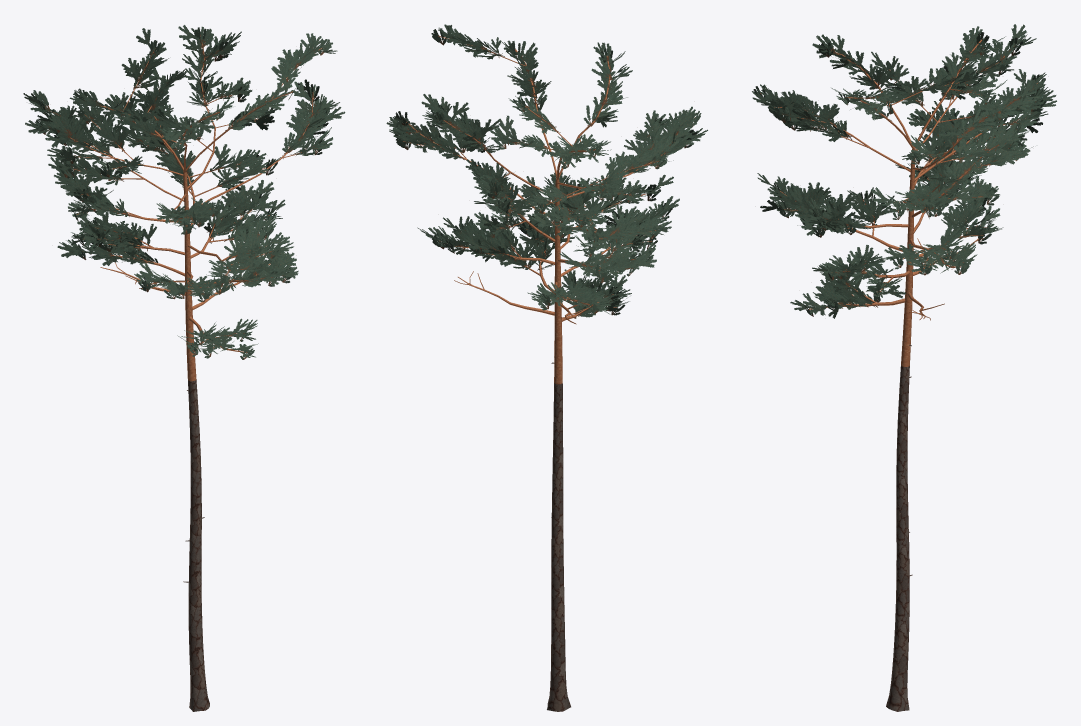
File: pine_a_LOD0.glb
3 renders of one model, left to right at view 1: azimuth 30°, elevation 25°; view 2: azimuth 150°, elevation 25°; view 3: azimuth 270°, elevation 25°, orthographic. The views are drawn at different scales.
Parts seen in each view (by area): view 1: Pine_A_LOD0_Foliage, Pine_A_LOD0_Bark; view 2: Pine_A_LOD0_Foliage, Pine_A_LOD0_Bark; view 3: Pine_A_LOD0_Foliage, Pine_A_LOD0_Bark.
Boxes of the visible parts, x1=… form: Pine_A_LOD0_Foliage: x1=23, y1=25, x2=345, y2=359; Pine_A_LOD0_Bark: x1=45, y1=35, x2=321, y2=711; Pine_A_LOD0_Foliage: x1=386, y1=24, x2=707, y2=318; Pine_A_LOD0_Bark: x1=403, y1=35, x2=695, y2=711; Pine_A_LOD0_Foliage: x1=752, y1=24, x2=1056, y2=318; Pine_A_LOD0_Bark: x1=760, y1=39, x2=1038, y2=711.
Size of the model in its own units: 9.78 by 21.09 by 9.06.
2 materials, 2 textured.
